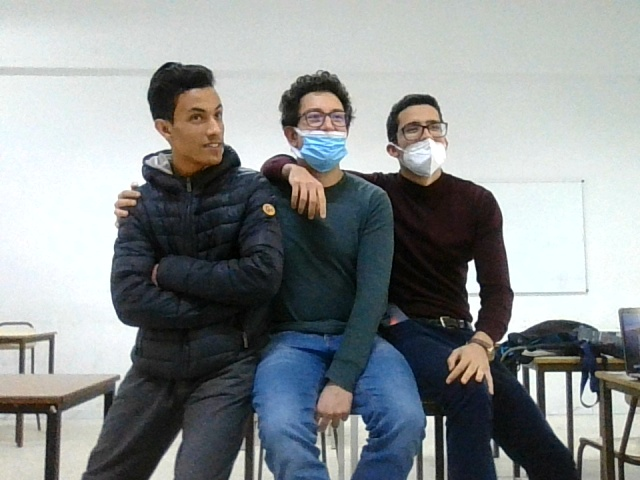mask_weared_incorrect: (268, 67, 360, 180), (378, 86, 470, 184)
without_mask: (147, 66, 240, 169)
